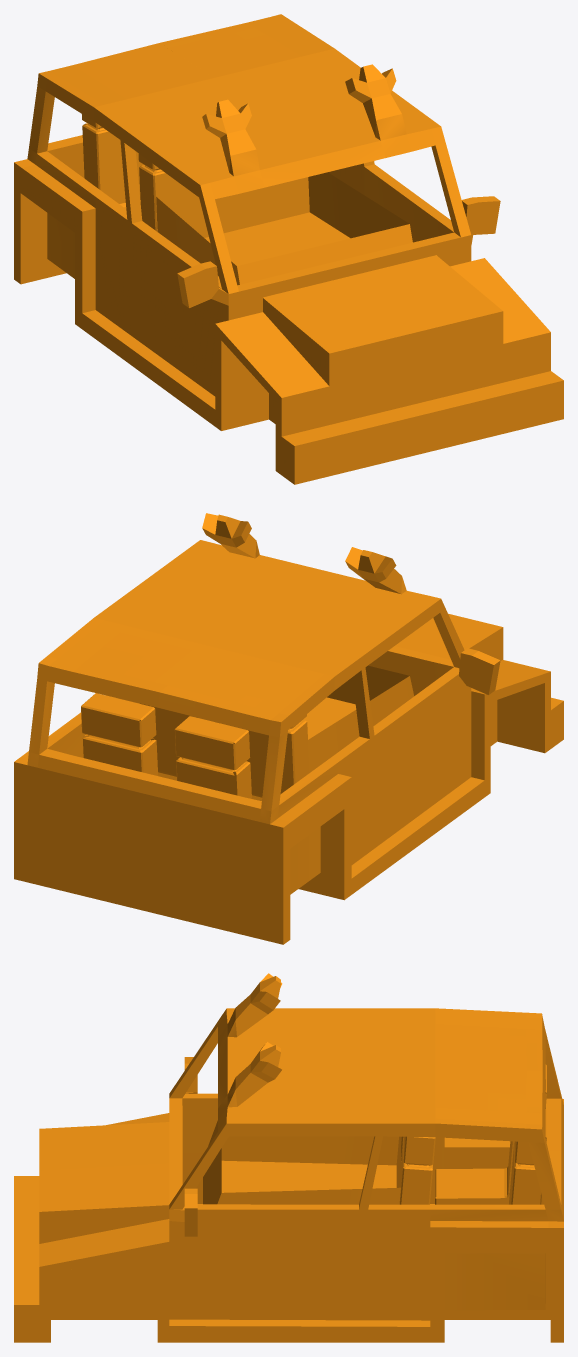
Rendered from mdlHaulerJeep.fbx.
3 renders of one model, top to bottom at view 1: azimuth 30°, elevation 25°; view 2: azimuth 150°, elevation 25°; view 3: azimuth 270°, elevation 25°, orthographic. The views are drawn at different scales.
Visible parts, largest first — view 1: Hauler2; view 2: Hauler2; view 3: Hauler2.
Part boxes in pixels (<box>): Hauler2: <box>14,14,563,484</box>; Hauler2: <box>14,513,563,944</box>; Hauler2: <box>14,973,563,1342</box>.
Size of the model in its own units: 708 by 579 by 1087.
